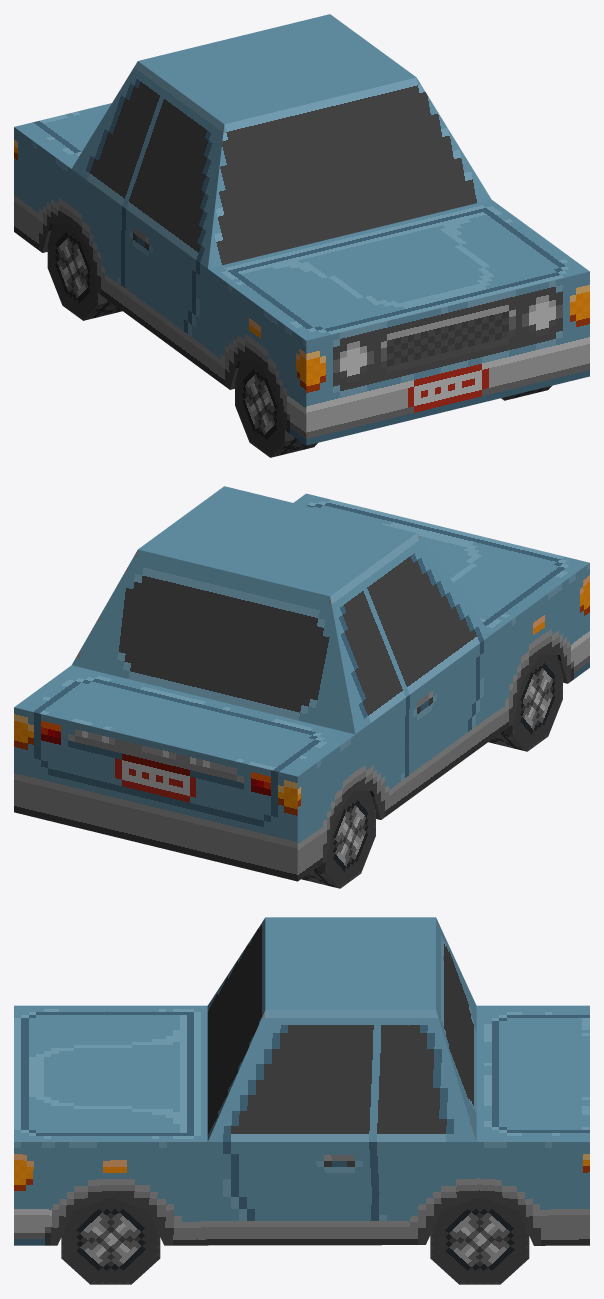
File: randomcar1.glb
The picture shows the model from 3 angles, top to bottom: view 1: azimuth 30°, elevation 25°; view 2: azimuth 150°, elevation 25°; view 3: azimuth 270°, elevation 25°; orthographic projection.
Visible parts, largest first — view 1: Plane_0, Circle_1, Circle.001_2; view 2: Plane_0, Circle.001_2, Circle_1; view 3: Plane_0, Circle.001_2, Circle_1.
Boxes of the visible parts, x1,y1,x2,y2 form: Plane_0: [14, 14, 589, 445]; Circle_1: [235, 360, 551, 457]; Circle.001_2: [47, 223, 122, 320]; Plane_0: [14, 486, 589, 881]; Circle.001_2: [301, 791, 375, 888]; Circle_1: [488, 654, 562, 751]; Plane_0: [14, 917, 589, 1245]; Circle.001_2: [430, 1196, 529, 1284]; Circle_1: [61, 1197, 160, 1284].
Bounding box in the file's own units: 2.83 × 2.46 × 5.05.
Materials: 1 (1 with a texture image).
